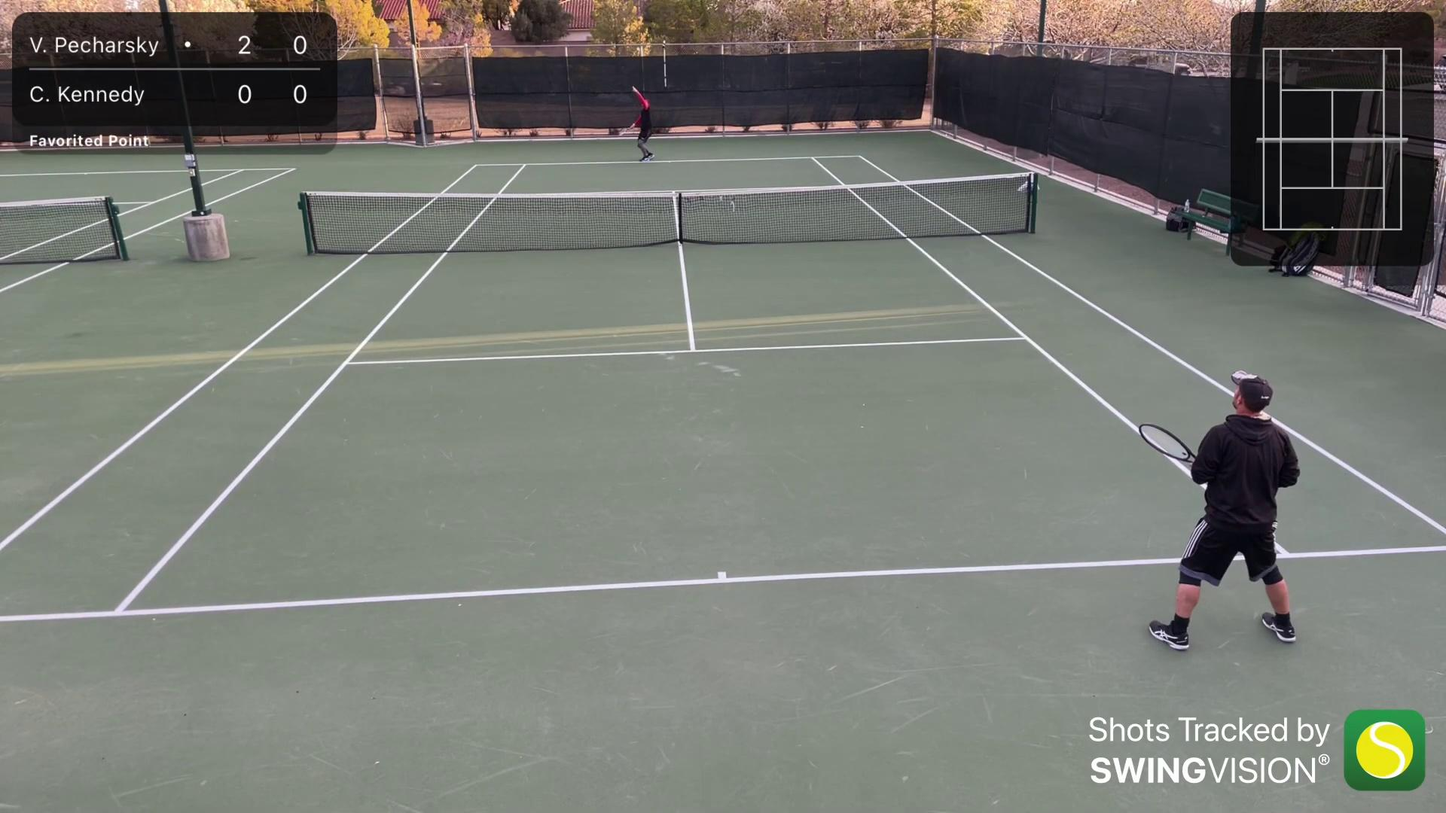ball: (636, 45, 641, 52)
